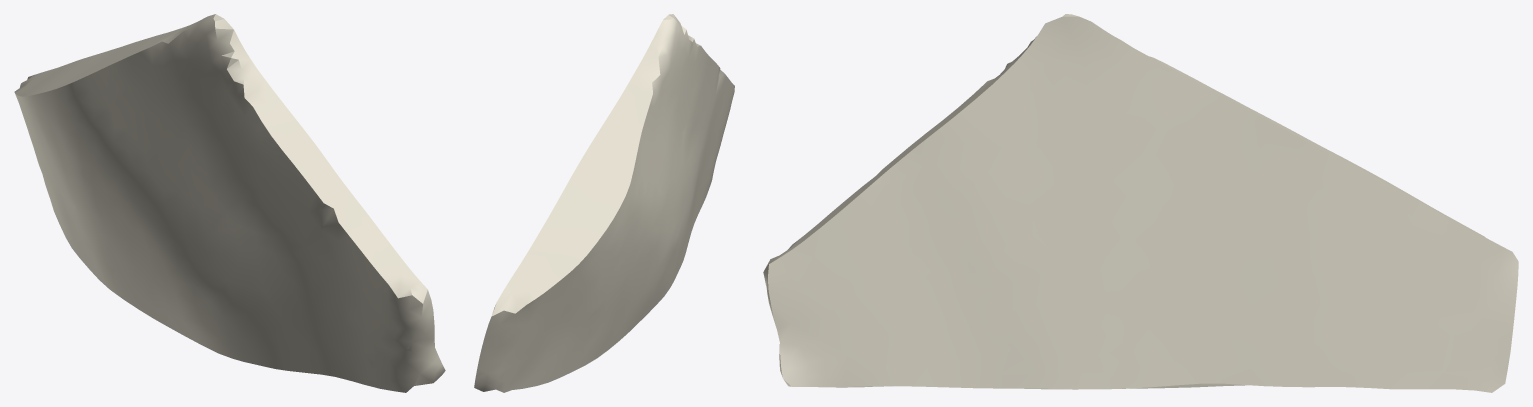
File: fma318885_mm909m.glb
The picture shows the model from 3 angles, left to right: view 1: azimuth 30°, elevation 25°; view 2: azimuth 150°, elevation 25°; view 3: azimuth 270°, elevation 25°; orthographic projection. The views are drawn at different scales.
Parts seen in each view (by area): view 1: FMA318885_MM909M; view 2: FMA318885_MM909M; view 3: FMA318885_MM909M.
Boxes of the visible parts, x1,y1,x2,y2 form: FMA318885_MM909M: (14,14,445,392); FMA318885_MM909M: (474,14,734,392); FMA318885_MM909M: (763,14,1518,392).
Size of the model in its own units: 0.00873 by 0.0192 by 0.0349.
